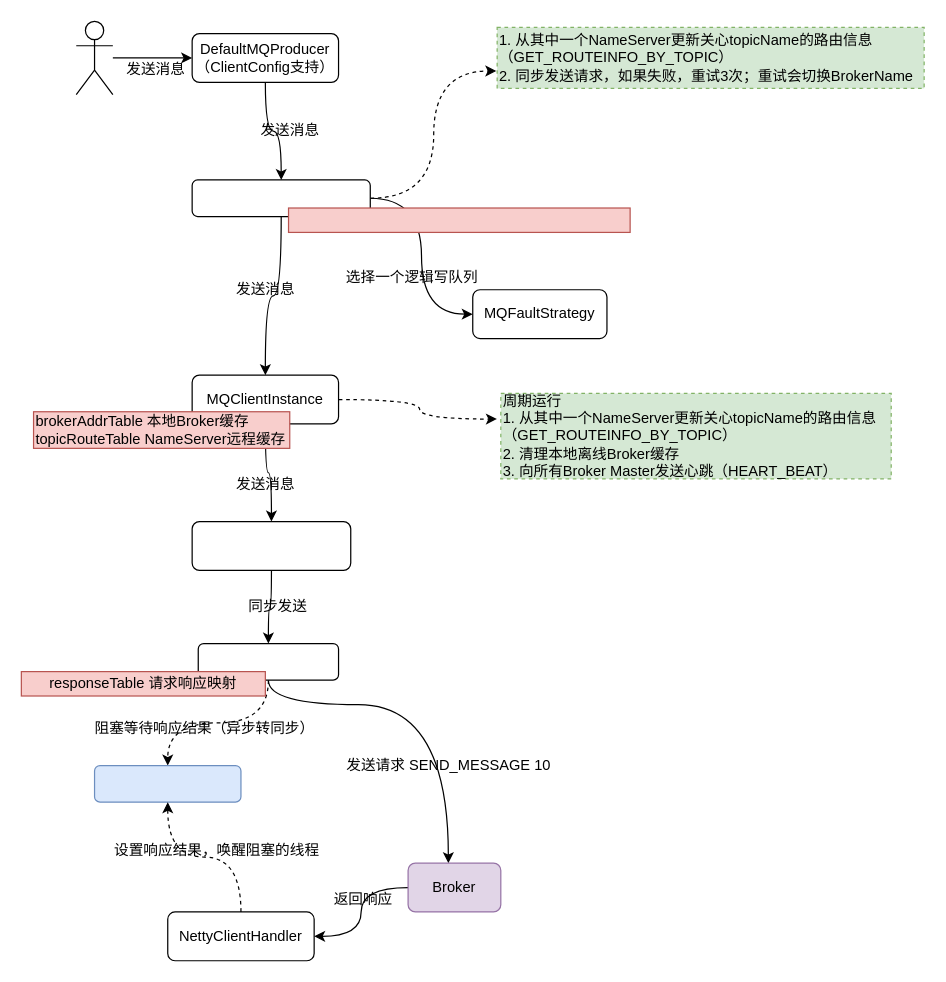
This 946x982 diagram has some shape labels left out. Here are the shapes that lost their labels. From the top down, the centre of each, then its label:
(280,198): DefaultMQProducerImpl
(458,219): topicPublishInfoTable 主题和所有逻辑写队列映射
(271,545): MQClientAPIImpl (同步、异步、单向支持)
(268,661): NettyRemotingClient
(167,783): ResponseFuture
